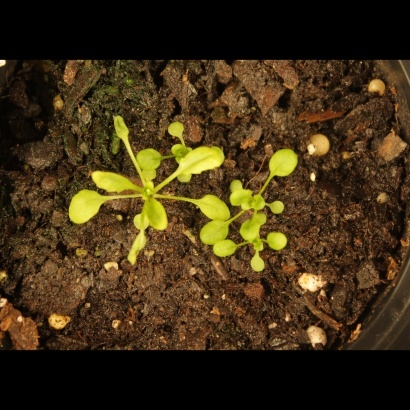leaf: (58, 188, 108, 228), (178, 144, 228, 180), (87, 164, 138, 199), (262, 141, 302, 179), (122, 231, 153, 273), (196, 191, 234, 224), (142, 194, 170, 234), (200, 220, 234, 246), (108, 108, 133, 142), (131, 146, 166, 170), (264, 227, 293, 255), (235, 219, 263, 246), (163, 116, 188, 139), (213, 239, 237, 262), (247, 255, 270, 278), (268, 197, 291, 220), (226, 178, 249, 201), (246, 192, 269, 215)
